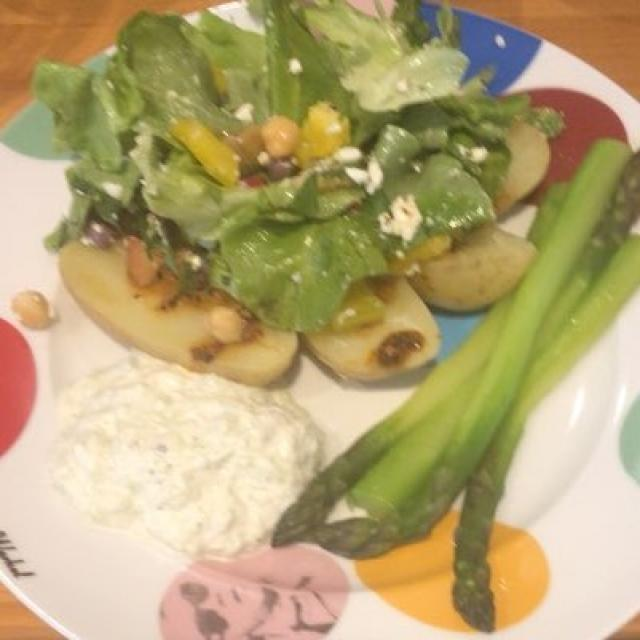asparagus: (309, 137, 630, 617)
oil: (340, 307, 409, 353)
potatoes: (46, 119, 558, 381)
salad: (31, 9, 519, 313)
yogurt: (63, 366, 311, 547)
